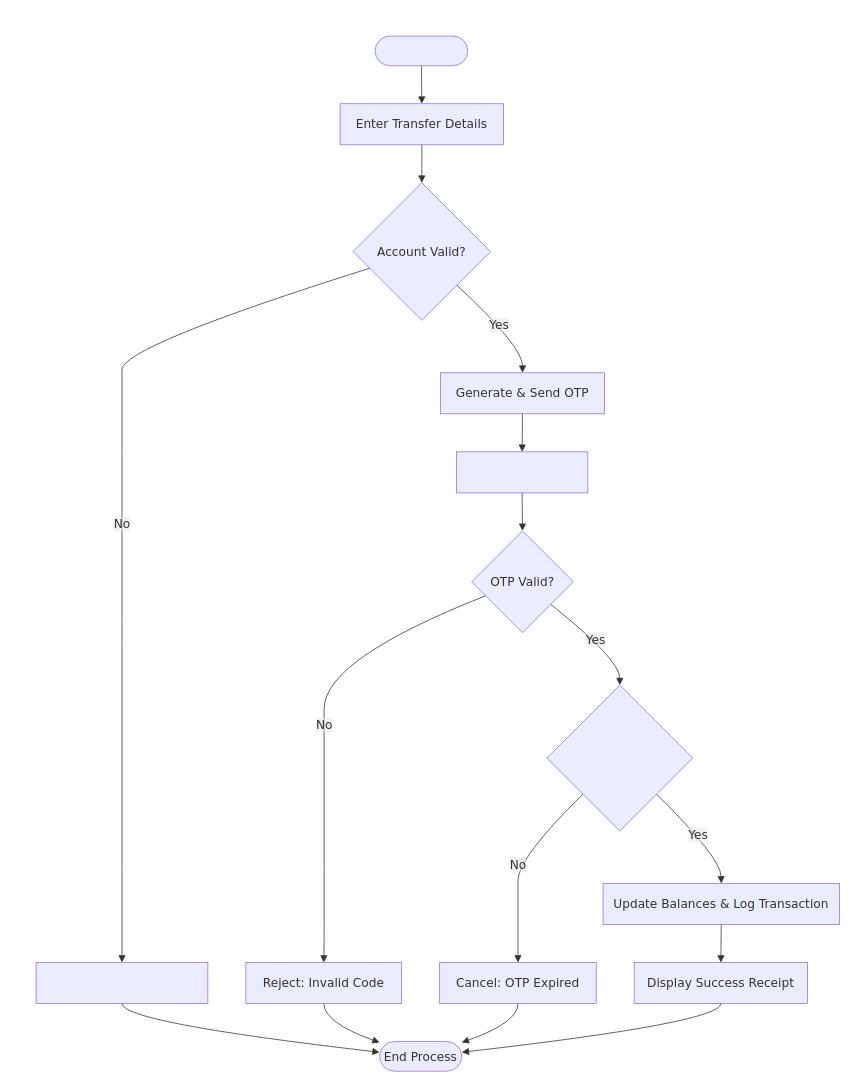
Some shapes in this 853 by 1085 pixel diagram are drawn without their labels. Here are the shapes that lost their labels. From the top down, the centre of each, then its label:
At point (421, 50): "Start Transfer".
At point (522, 472): "Enter OTP Code".
At point (619, 757): "Within 10 Mins?".
At point (121, 983): "Reject: Invalid Account".
